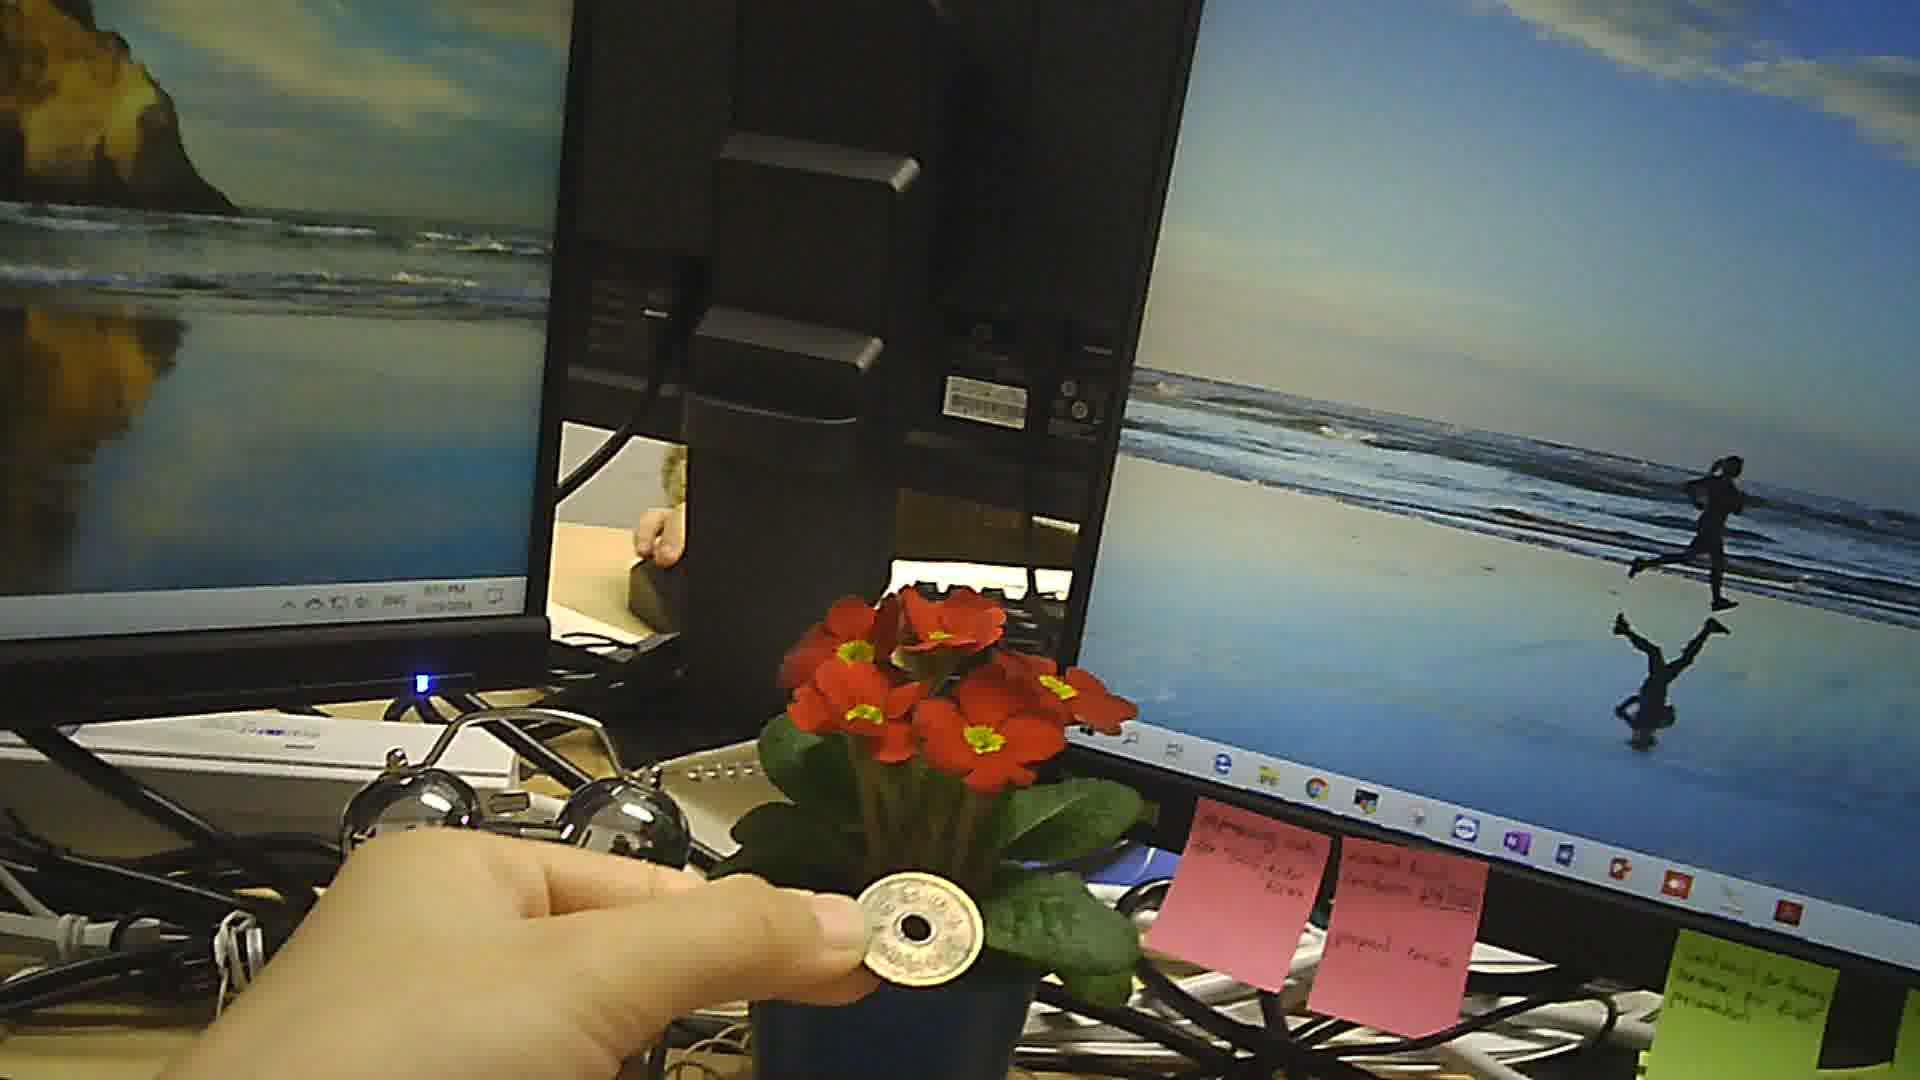5 Yen: (837, 858, 985, 988)
